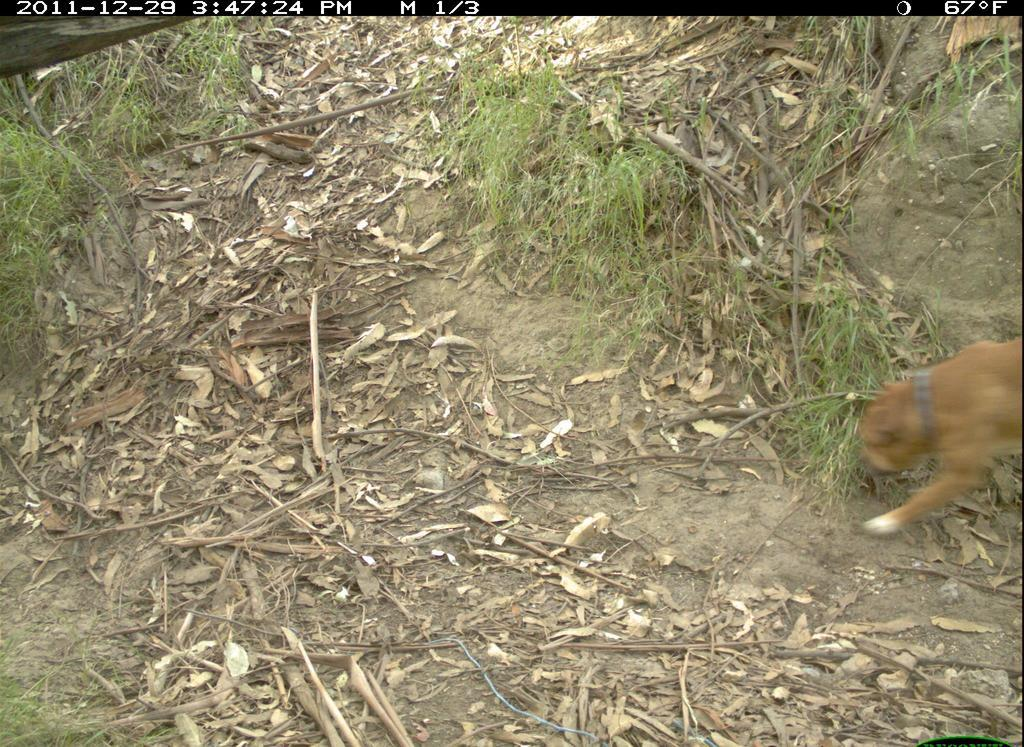dog: (843, 322, 1023, 545)
